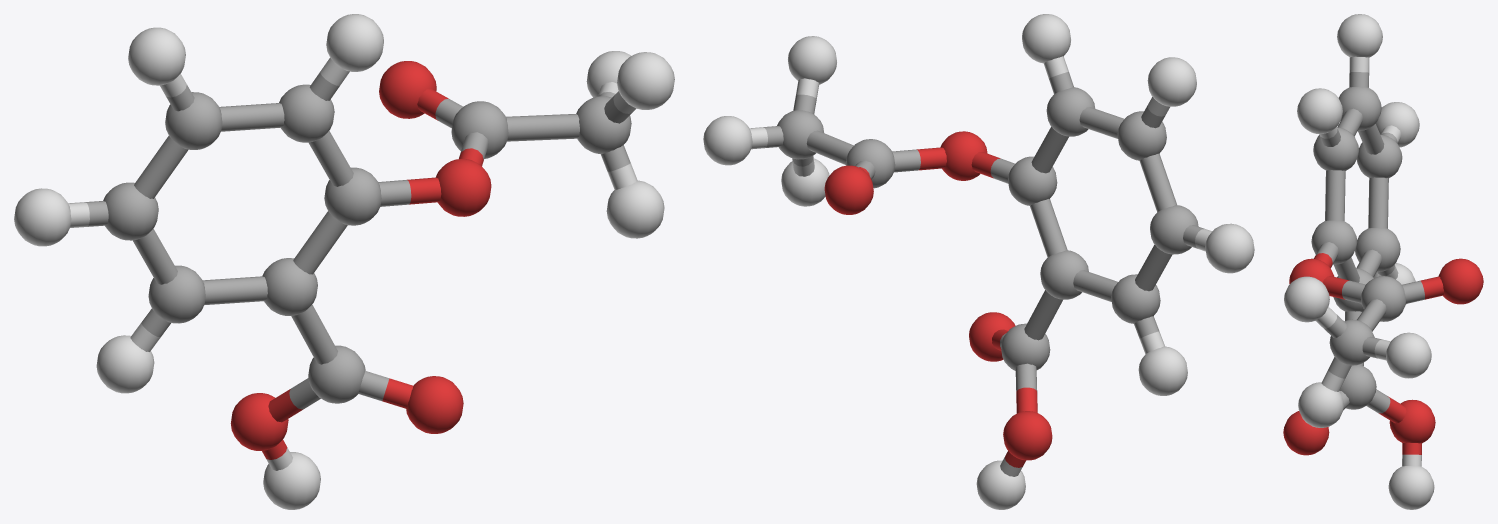
The model's file is aspirin-bas.glb.
The picture shows the model from 3 angles, left to right: view 1: azimuth 30°, elevation 25°; view 2: azimuth 150°, elevation 25°; view 3: azimuth 270°, elevation 25°; orthographic projection. The views are drawn at different scales.
Parts seen in each view (by area): view 1: aspirin-bas; view 2: aspirin-bas; view 3: aspirin-bas.
Boxes of the visible parts, <box> form: aspirin-bas: <box>14,14,674,509</box>; aspirin-bas: <box>703,14,1254,509</box>; aspirin-bas: <box>1283,14,1483,509</box>.
Bounding box in the file's own units: 8.74 × 7.18 × 3.05.
